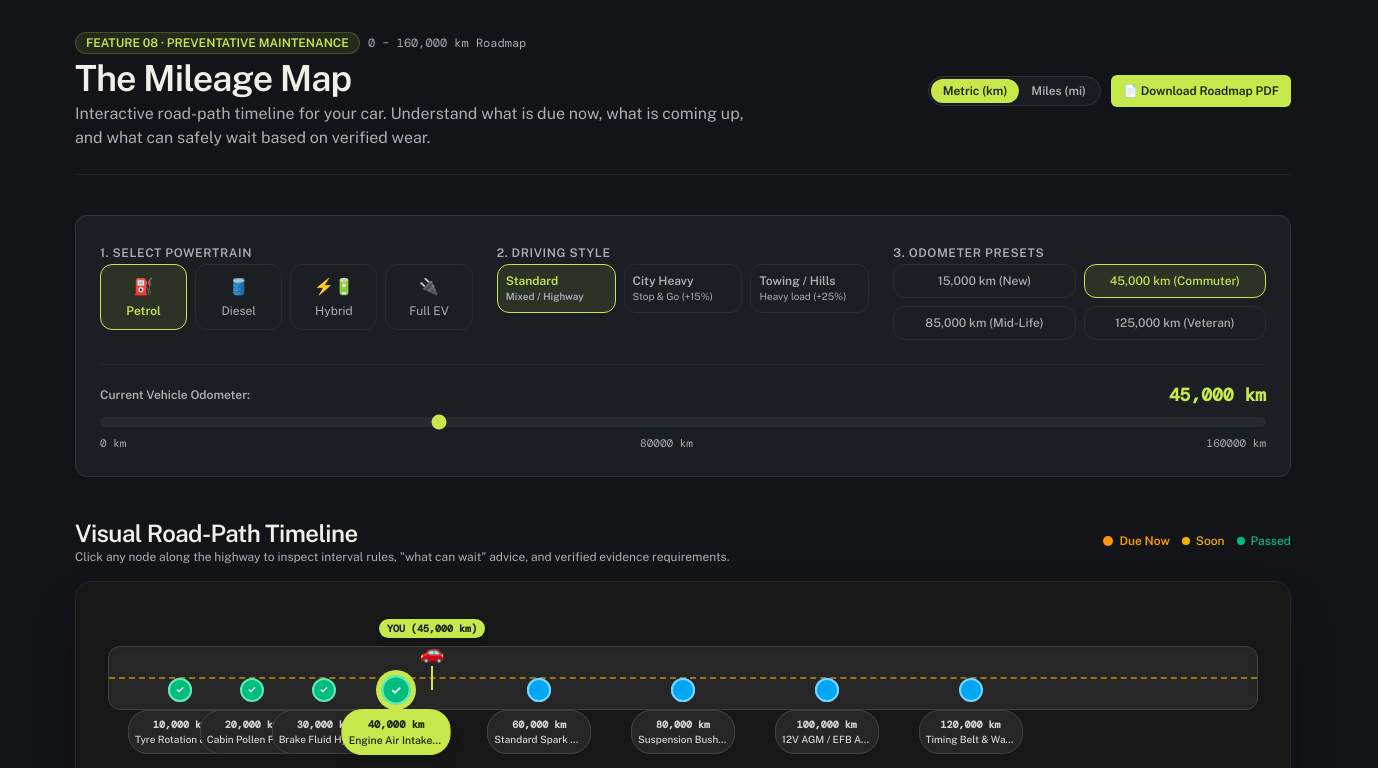
Test: The Mileage Map (Feature 08) › switches powertrain to EV and updates available milestone checkpoints
The image size is (1378, 768).
// Click Full EV
Click the button "🔌 Full EV": (429, 297) top-left (386, 264), bottom-right (473, 330)
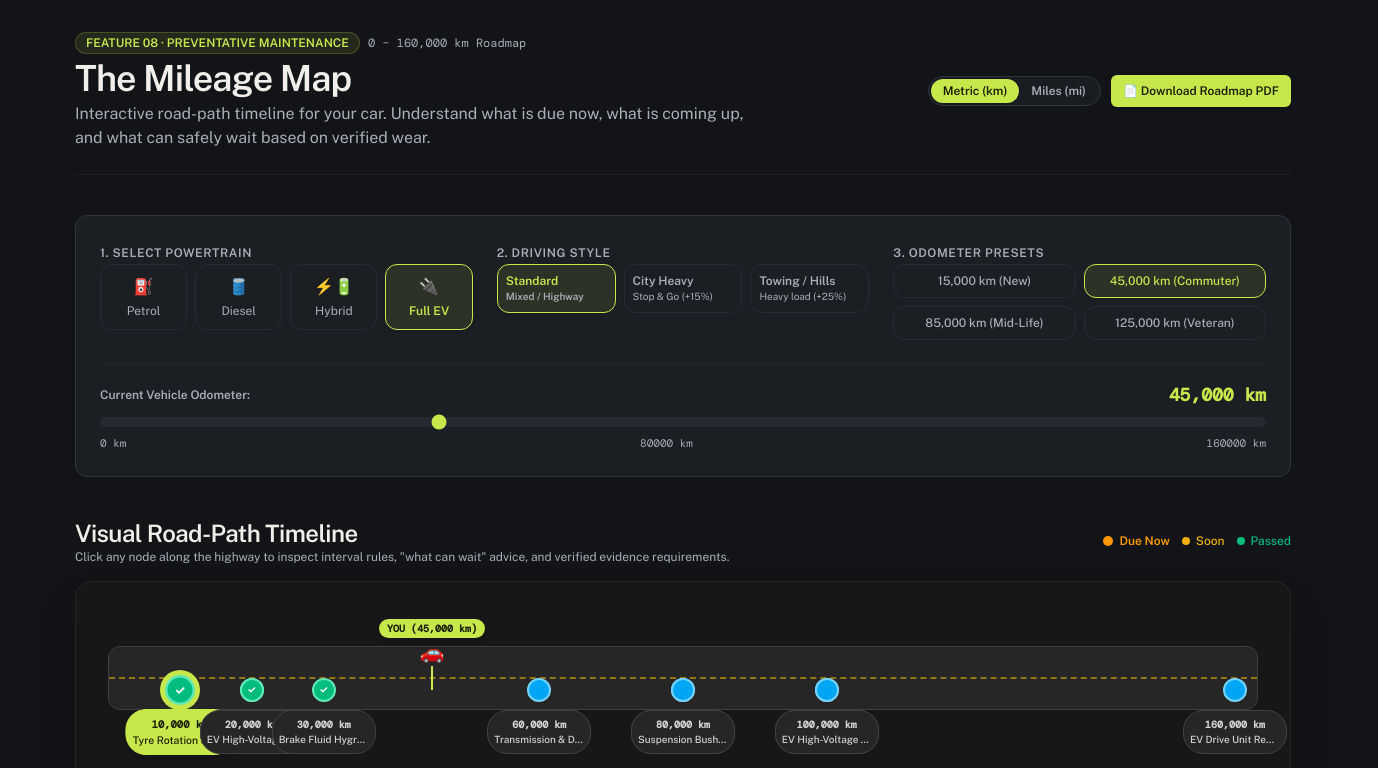
Expected: the text "EV High-Voltage Port & Interlock Scan" is shown, top-left (207, 732), bottom-right (297, 746)
